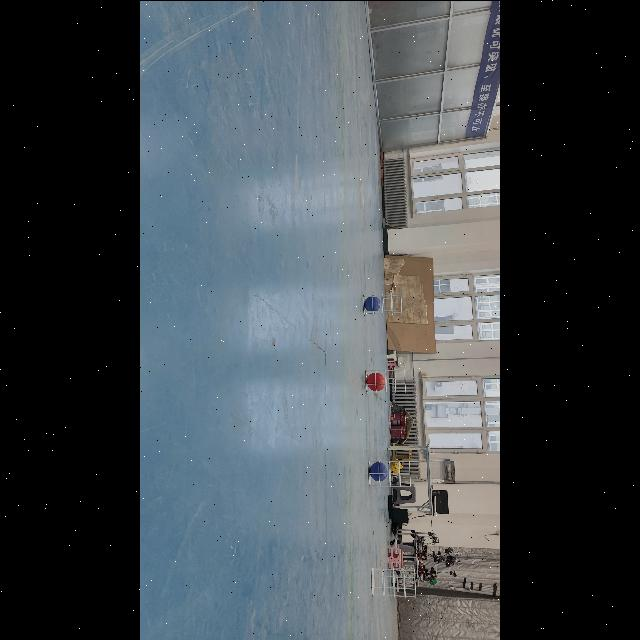B: (369, 461, 388, 482), (364, 295, 381, 311)
R: (366, 372, 386, 391)
S: (368, 565, 418, 599), (366, 458, 414, 488), (364, 365, 408, 395), (362, 291, 404, 317)
